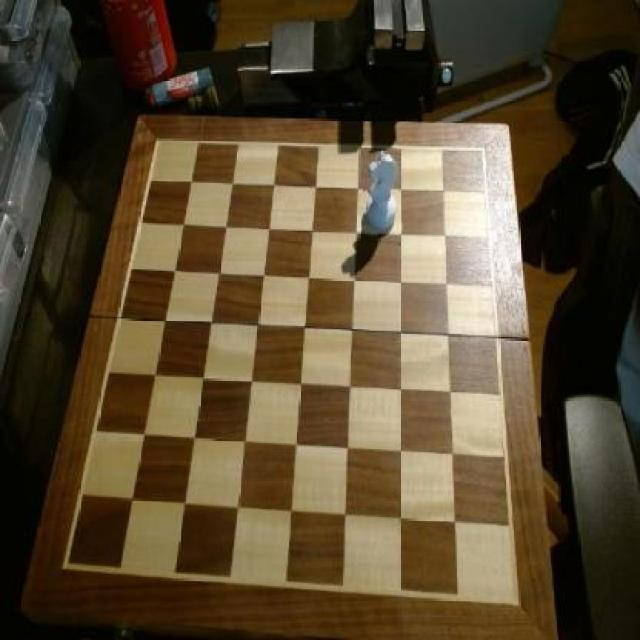white-king: (363, 149, 401, 236)
